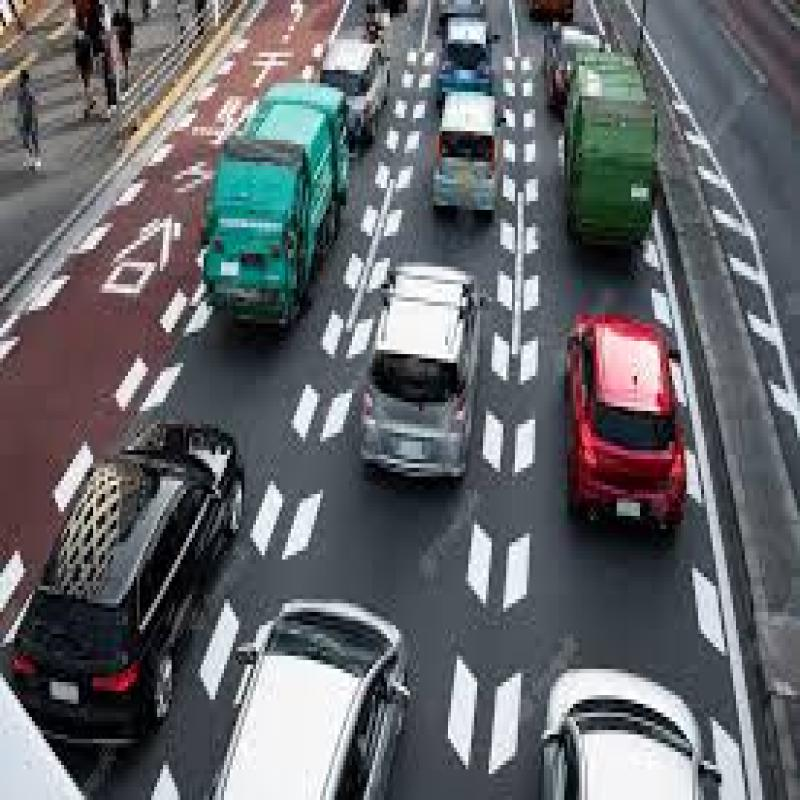car: (12, 418, 259, 742), (233, 564, 420, 800), (355, 227, 485, 518), (553, 286, 677, 558), (532, 646, 726, 800)
